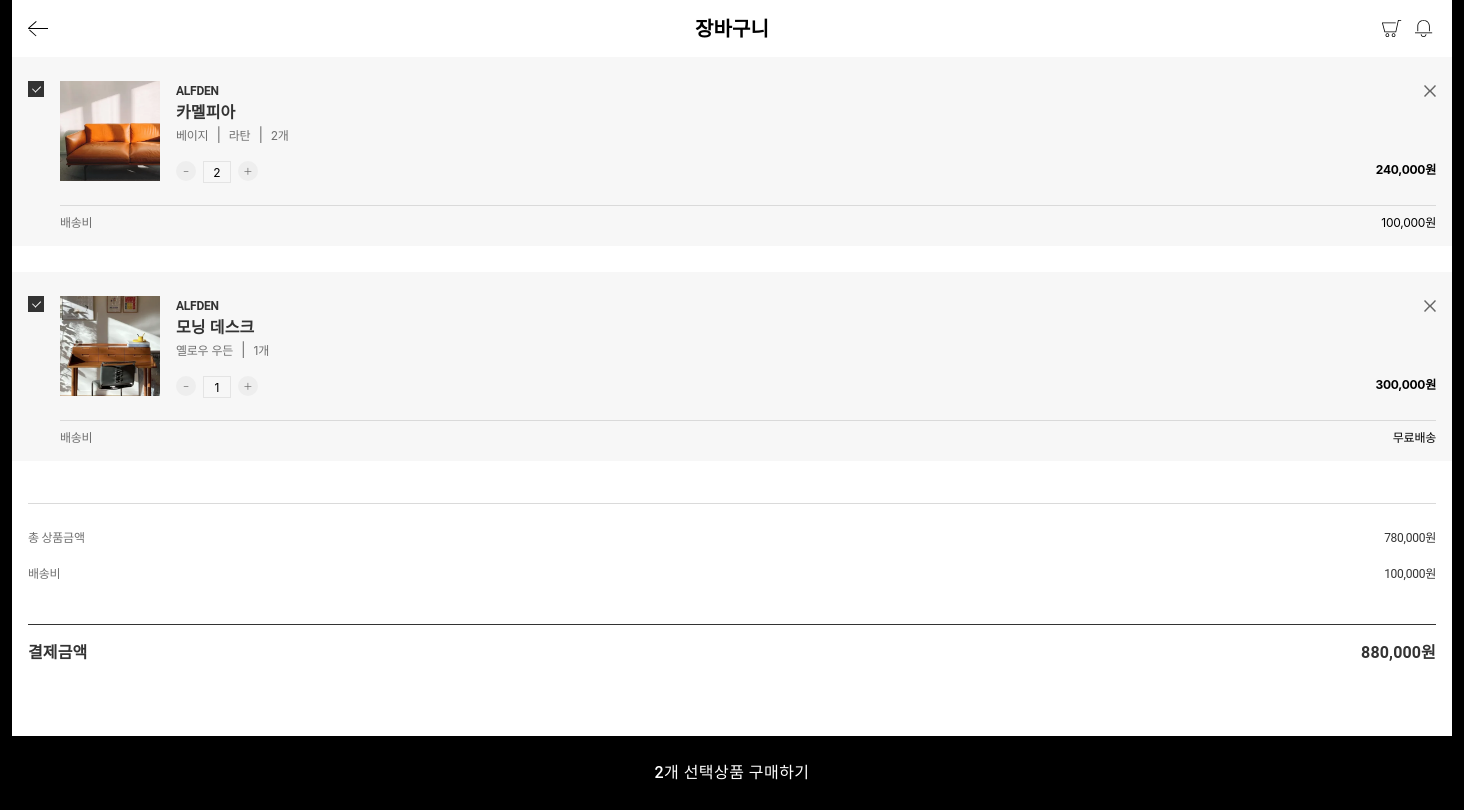
구매하기 → 선택한 상품만 주문서로 (580,000원)
Click the checkbox named "모닝 데스크 선택". click: (36, 304)
box: [28,296,44,312]
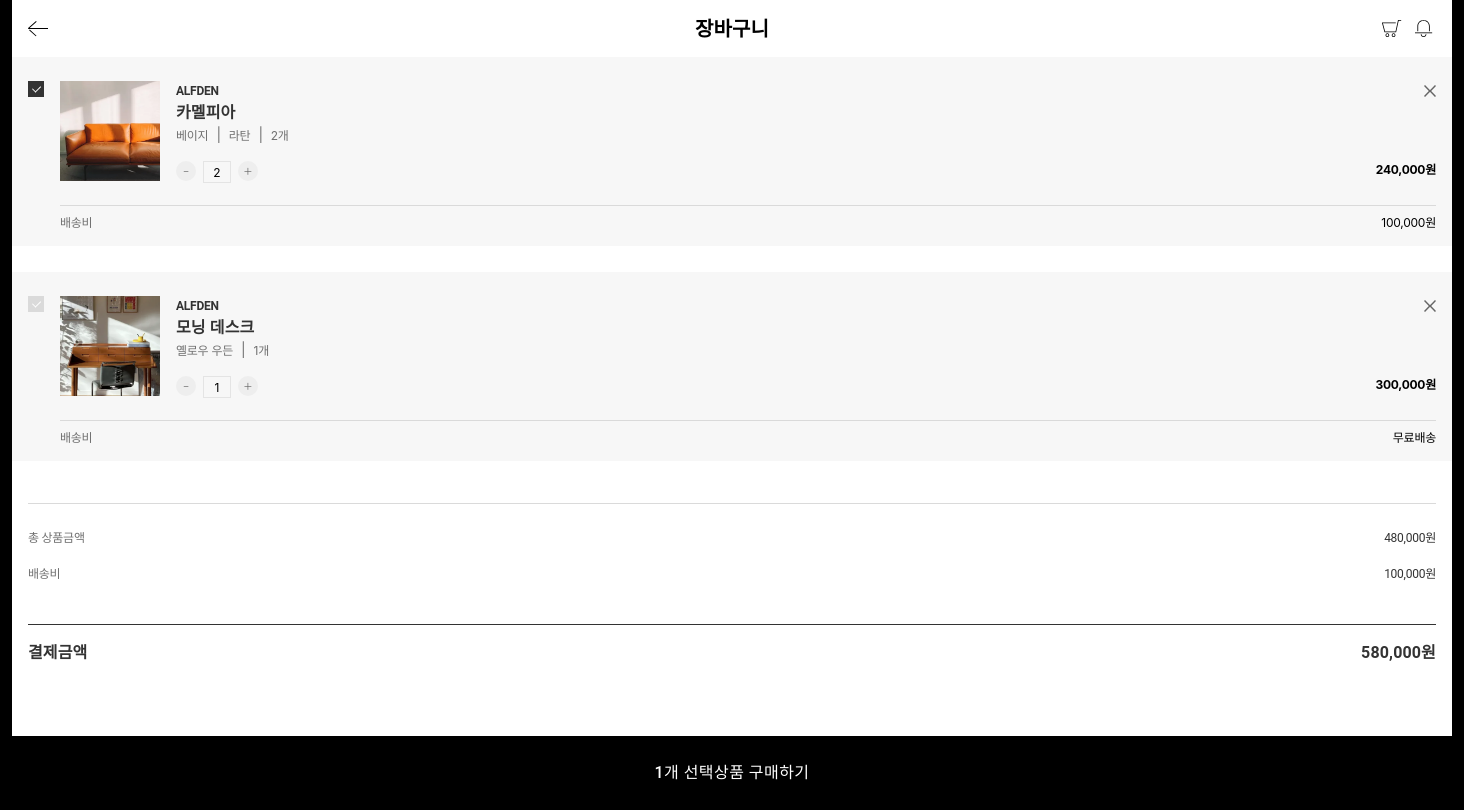
Click the button "1개 선택상품 구매하기". click: (732, 773)
box: [12,736,1452,809]
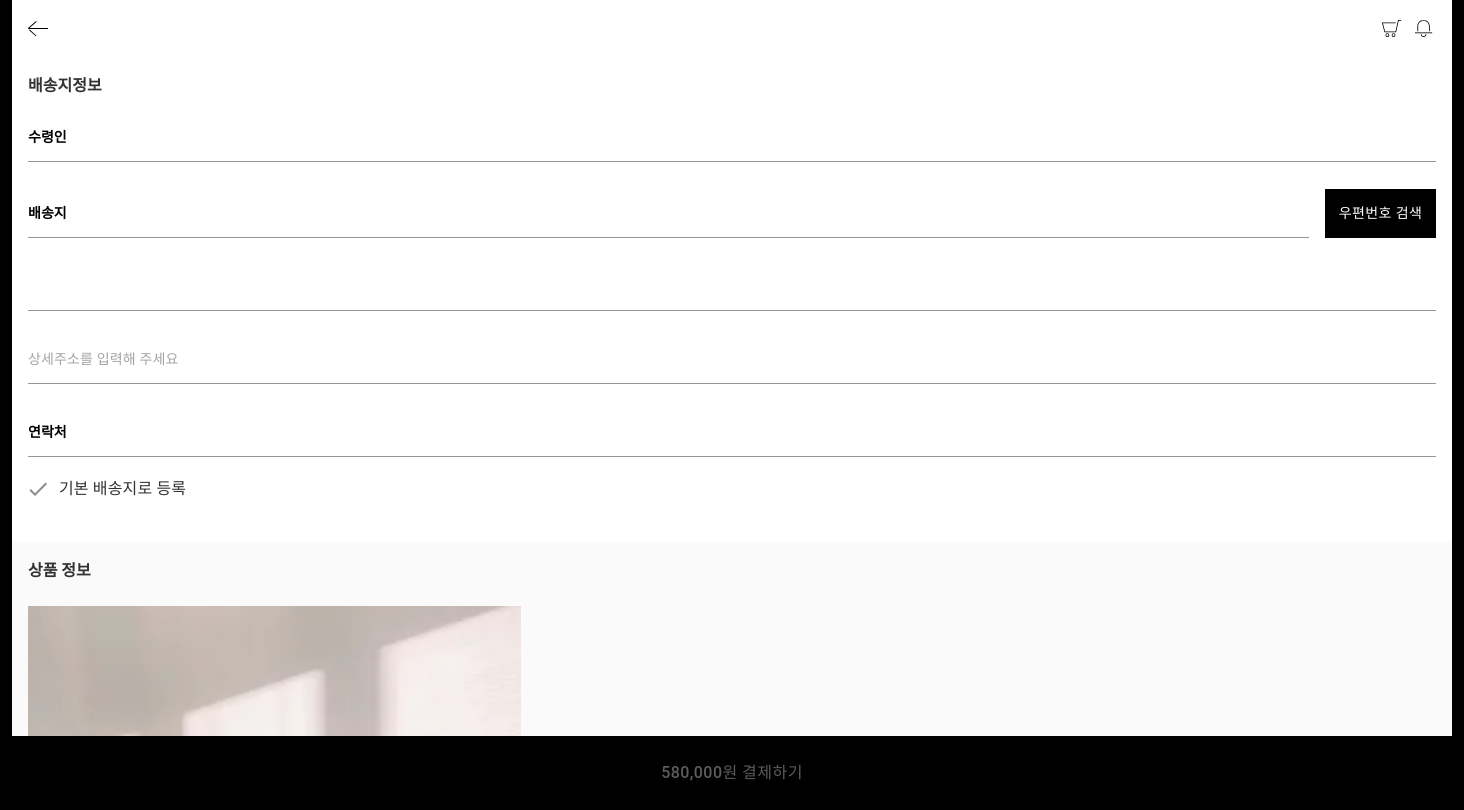
Check: the button "580,000원 결제하기" is disabled, box [12,736,1452,809]
